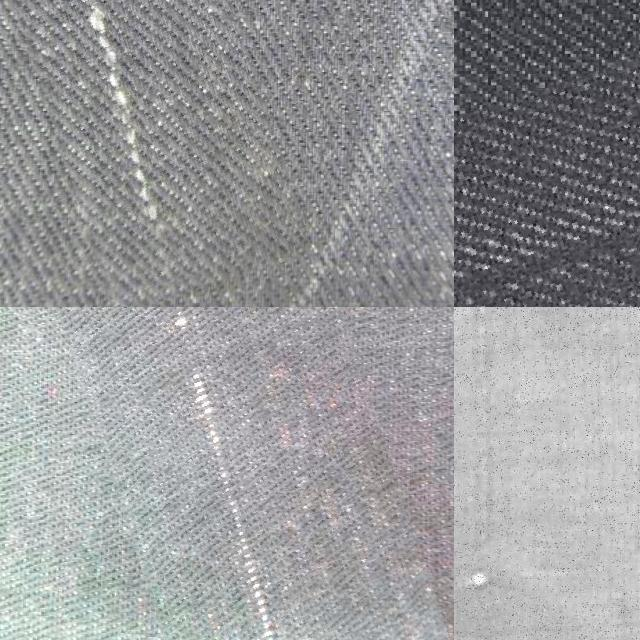other: (454, 535, 526, 623)
stains: (43, 307, 406, 640), (454, 91, 640, 307)
